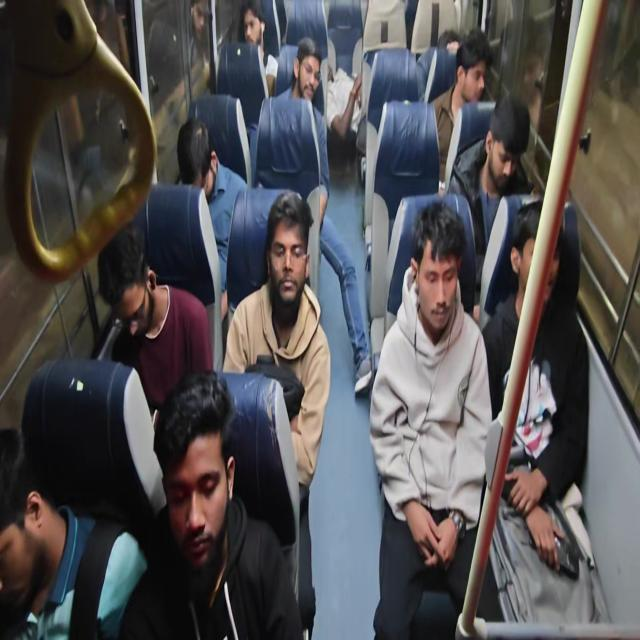person: (480, 200, 610, 626), (369, 200, 493, 638), (118, 368, 304, 639), (222, 189, 331, 637), (274, 37, 373, 394), (0, 426, 148, 639), (97, 224, 213, 415), (176, 115, 248, 316), (447, 93, 532, 251), (275, 36, 330, 227), (429, 27, 493, 187), (512, 20, 550, 135), (240, 1, 278, 98), (276, 36, 322, 105)
